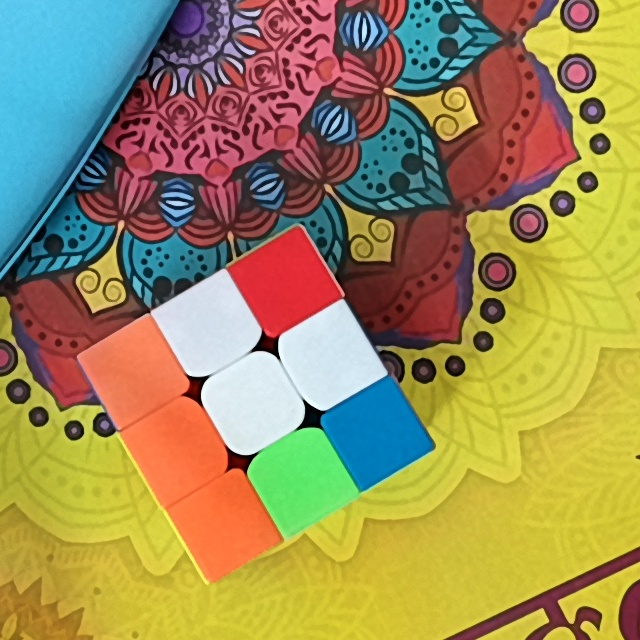tile: (191, 498, 257, 556), (223, 373, 284, 433), (146, 420, 206, 480), (269, 452, 331, 510), (300, 328, 359, 388), (107, 341, 164, 403), (178, 297, 237, 356), (346, 405, 404, 462), (255, 255, 314, 311)
